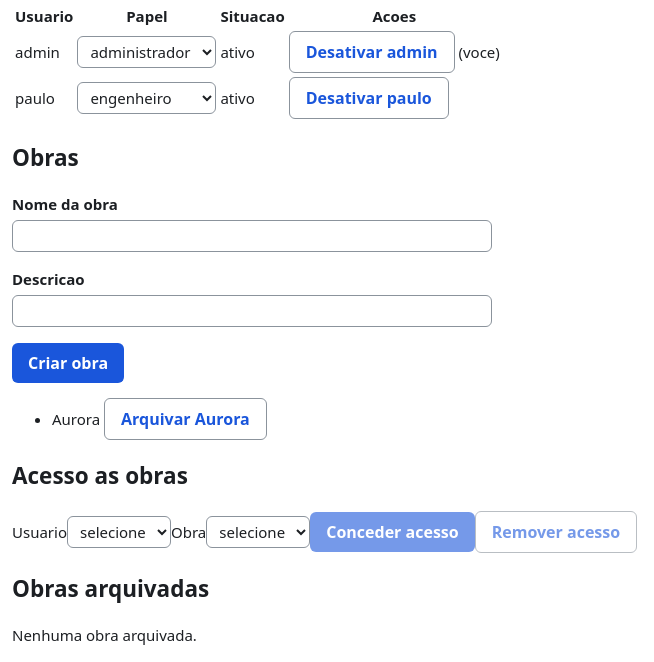
Test: arquivamento de obra › a obra arquivada passa a constar entre as arquivadas sem recarregar a pagina
(page scrolled)
Step 1. Click the button "Arquivar Aurora" → (185, 419), box [104,398,267,440]
(page scrolled)
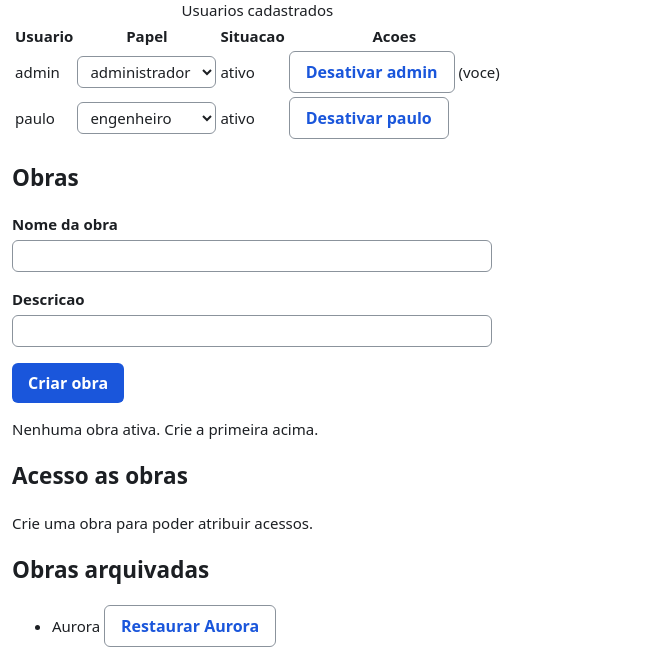
Expected: the button "Restaurar Aurora" is shown, [104,605,276,647]
